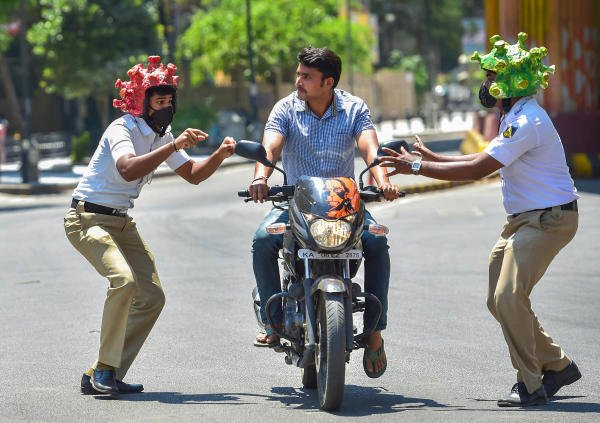bike: (241, 178, 406, 411)
person: (63, 53, 235, 396), (451, 31, 582, 406), (258, 42, 389, 272)
